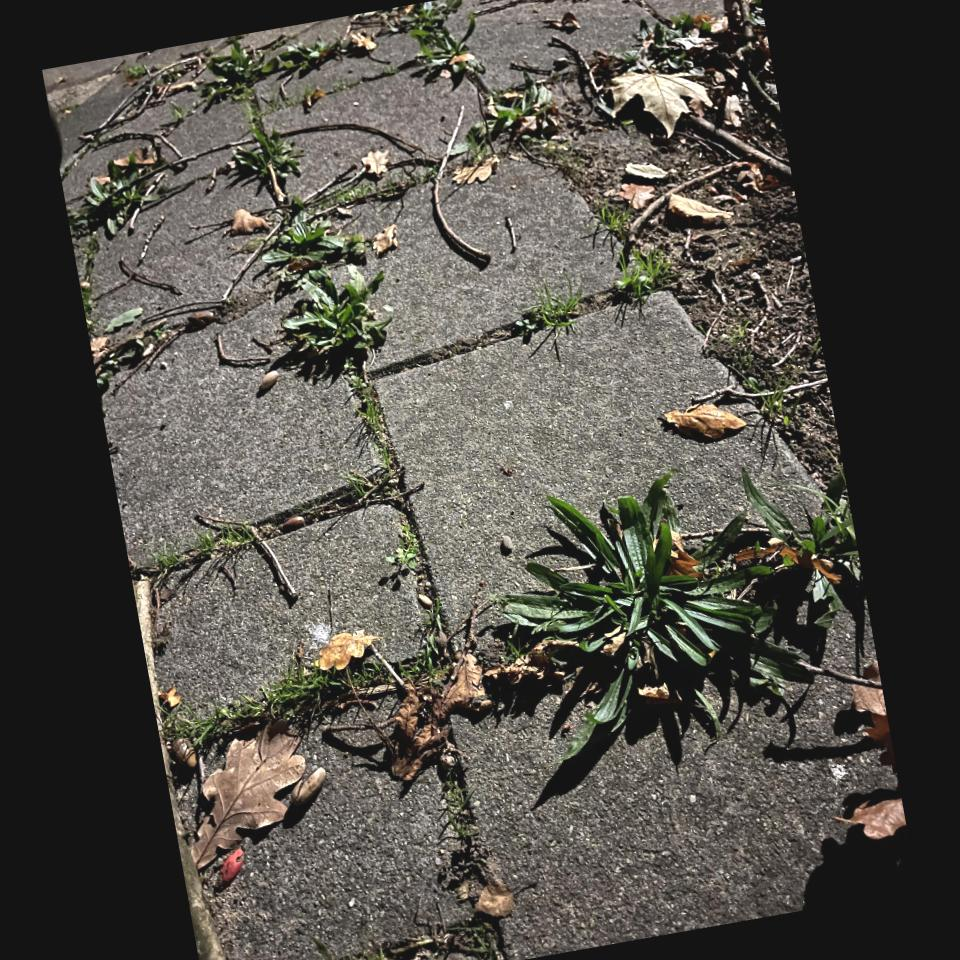weed: (490, 479, 857, 736), (220, 125, 374, 368), (175, 638, 439, 750), (213, 39, 348, 188), (595, 207, 665, 295), (77, 175, 158, 237), (417, 0, 471, 81), (528, 284, 578, 325)
